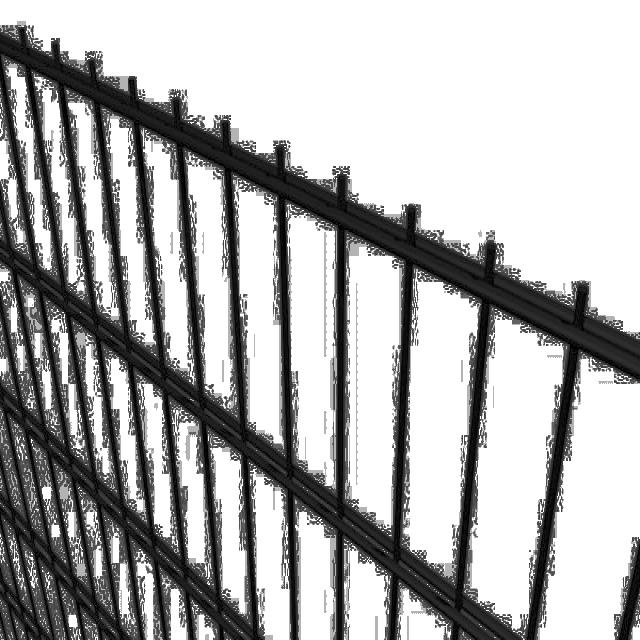fences: (0, 18, 625, 626)
